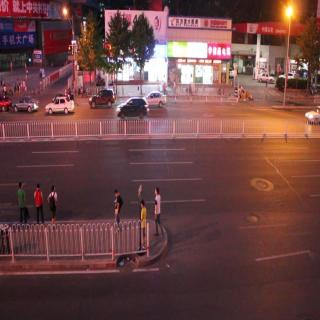Car: (115, 94, 149, 120), (88, 88, 116, 112), (44, 96, 74, 118), (13, 96, 41, 112), (146, 90, 168, 110), (304, 104, 320, 124), (257, 70, 275, 86), (87, 110, 90, 110)
